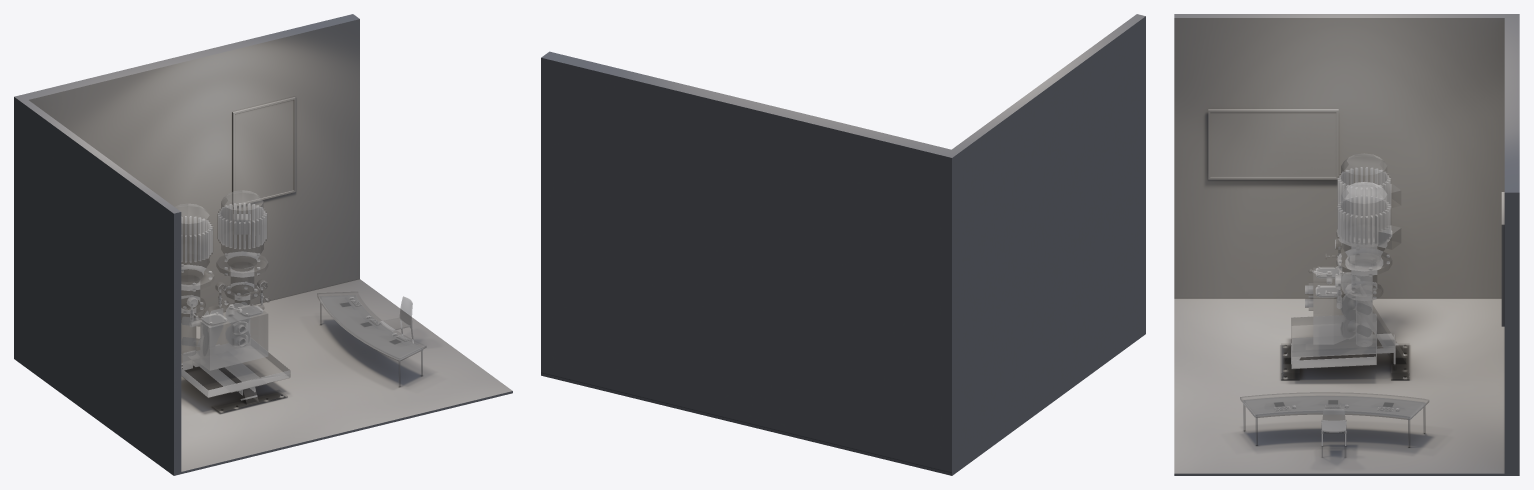
The model's file is digital_twin_v1.glb.
3 views of the same model, side by side, from view 1: azimuth 30°, elevation 25°; view 2: azimuth 150°, elevation 25°; view 3: azimuth 270°, elevation 25° (orthographic). The views are drawn at different scales.
Parts seen in each view (by area): view 1: Wall, Macin, Arc001, Chair; view 2: Wall; view 3: Wall, Macin, Arc001, Chair.
Boxes of the visible parts, x1,y1,x2,y2 form: Wall: (14, 14, 512, 475); Macin: (175, 190, 290, 413); Arc001: (317, 292, 426, 386); Chair: (381, 296, 413, 342); Wall: (541, 14, 1145, 475); Wall: (1174, 14, 1519, 475); Macin: (1281, 153, 1409, 380); Arc001: (1240, 392, 1428, 447); Chair: (1321, 409, 1346, 457).
Size of the model in its own units: 4.04 by 2.98 by 3.29.
Materials: 6 (6 with a texture image).
